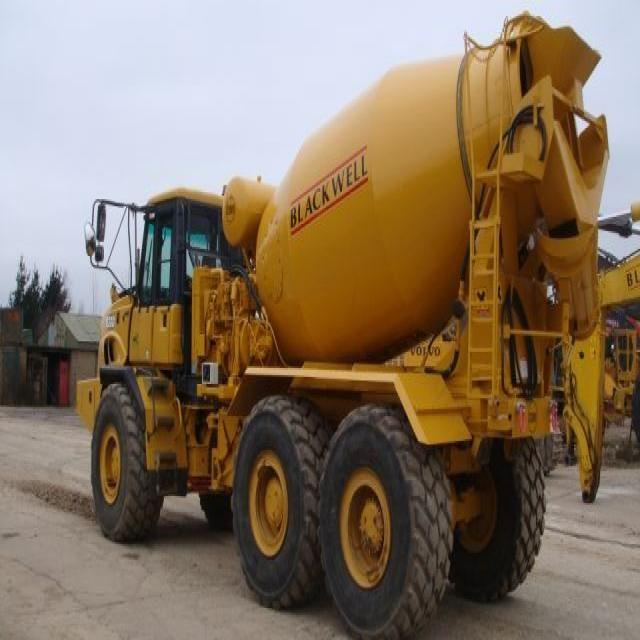dump_truck: (75, 7, 623, 638)
